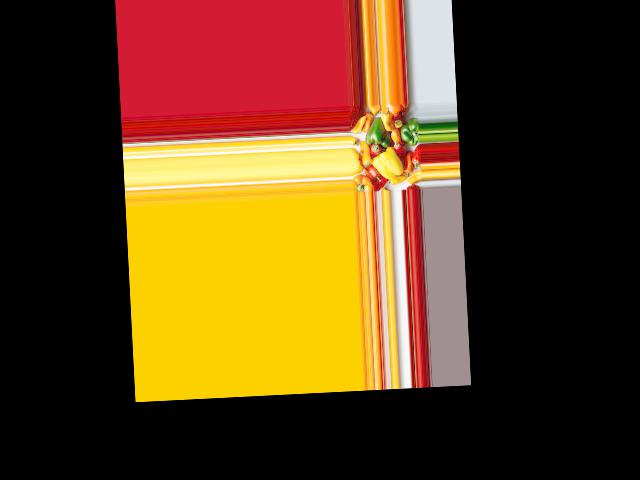bell_pepper: (408, 146, 422, 169)
